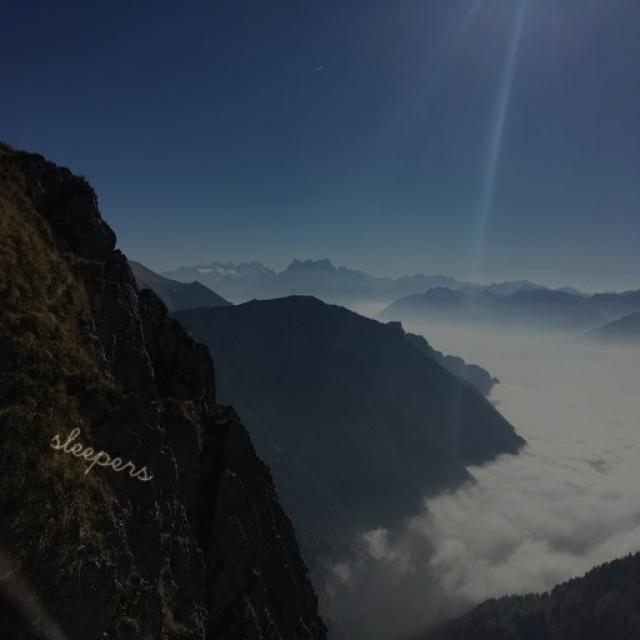watermark: (41, 418, 176, 488)
